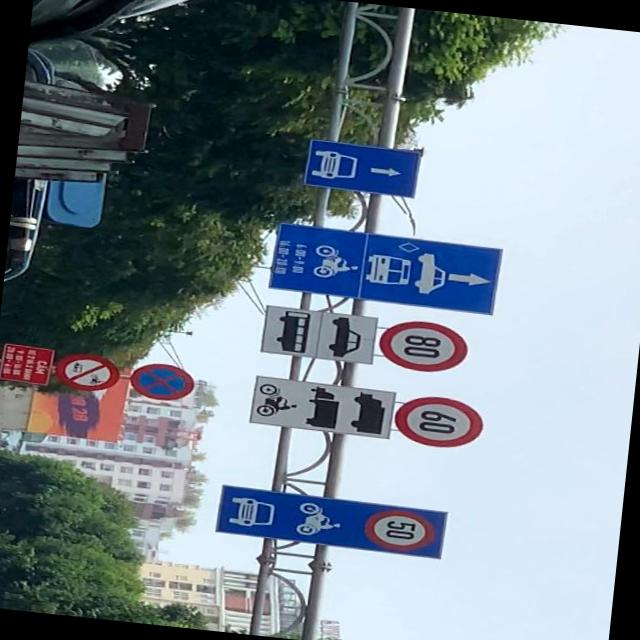P-104: (53, 353, 119, 393)
P-127: (392, 391, 488, 451), (378, 316, 470, 376)
P-130: (128, 360, 197, 404)
